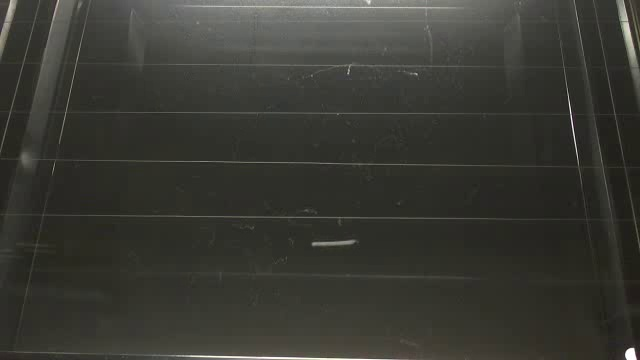Alfa: (309, 237, 359, 249)
